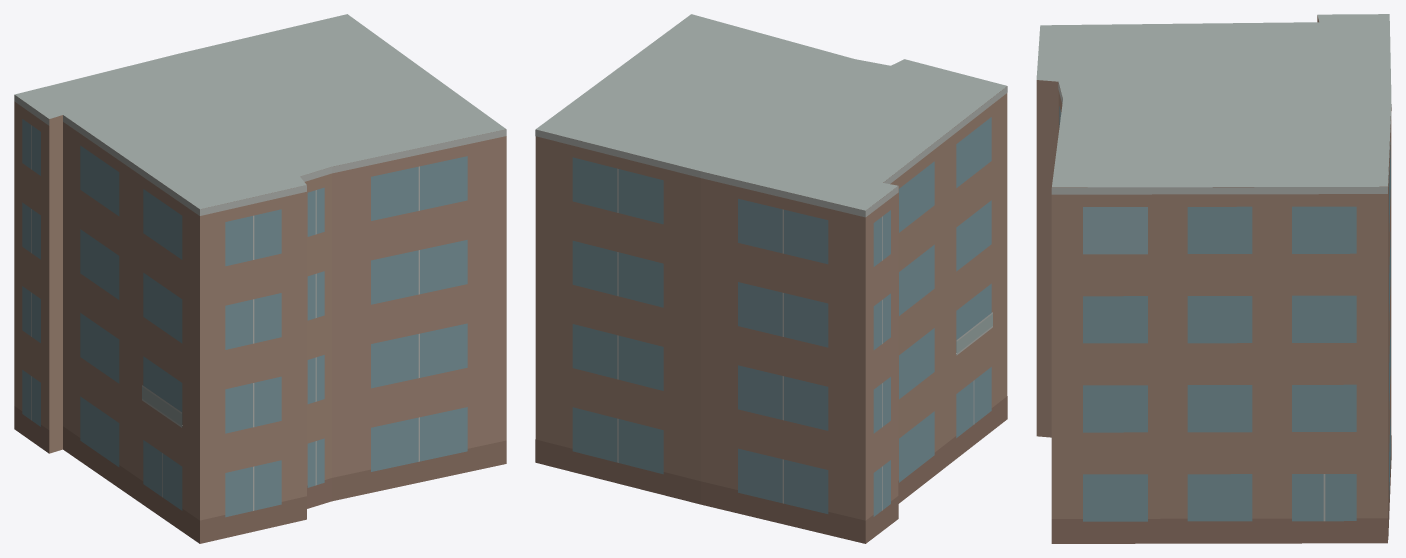
The model's file is survey-upis-32520153.glb.
3 views of the same model, side by side, from view 1: azimuth 30°, elevation 25°; view 2: azimuth 150°, elevation 25°; view 3: azimuth 270°, elevation 25° (orthographic). The views are drawn at different scales.
Visible parts, largest first — view 1: survey-upis-32520153.tmp; view 2: survey-upis-32520153.tmp; view 3: survey-upis-32520153.tmp.
Boxes of the visible parts, bbox=[...] form: survey-upis-32520153.tmp: bbox=[14, 14, 506, 543]; survey-upis-32520153.tmp: bbox=[535, 14, 1007, 543]; survey-upis-32520153.tmp: bbox=[1036, 14, 1391, 543].
Size of the model in its own units: 12.53 by 12 by 10.84.
